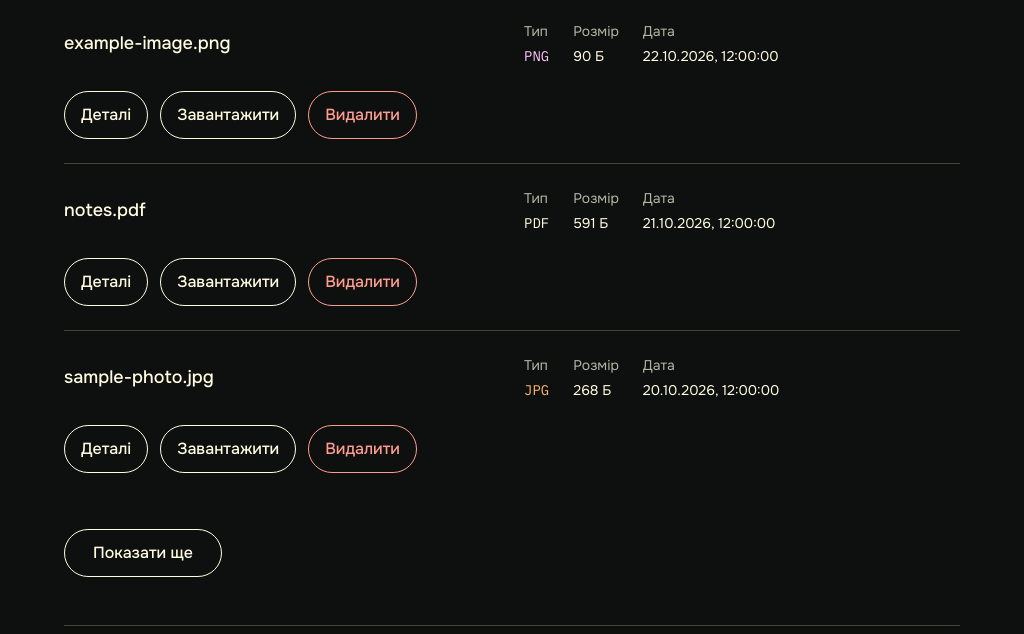
Test: paginates without duplicate IDs and resets the cursor for filtering, ordering and debounced search
(page scrolled)
expect the element "example-image.png" is shown: met, box left=64, top=22, right=779, bottom=139
Click the button "Показати ще" at (143, 553), box left=64, top=529, right=222, bottom=577
(page scrolled)
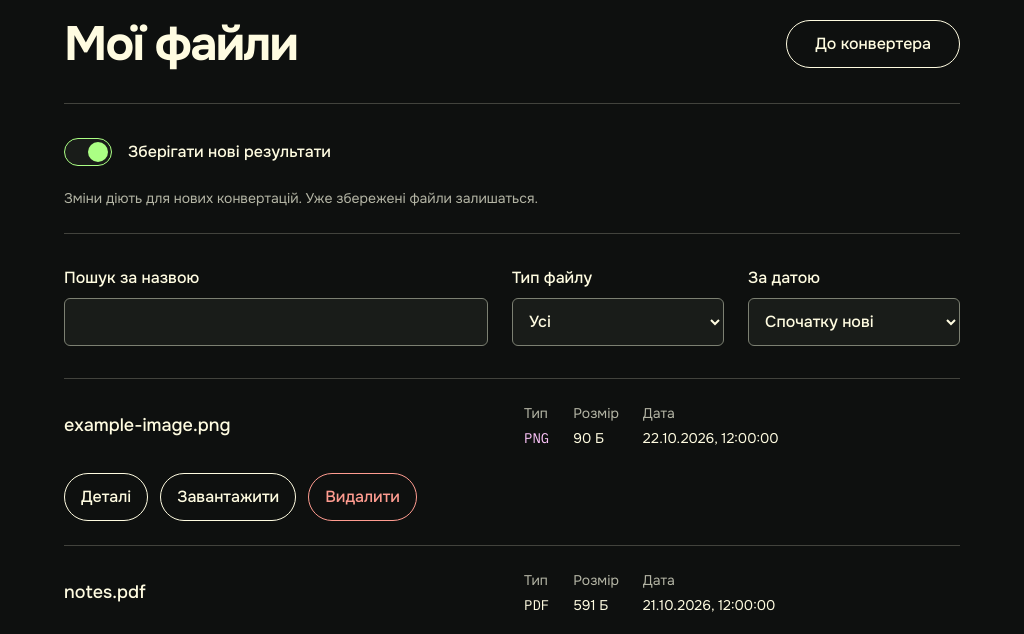
expect the button "Показати ще" is gone: met
Select "PDF" in the dropdown labelled "Тип файлу" at (618, 322), box left=512, top=298, right=724, bottom=346
(page scrolled)
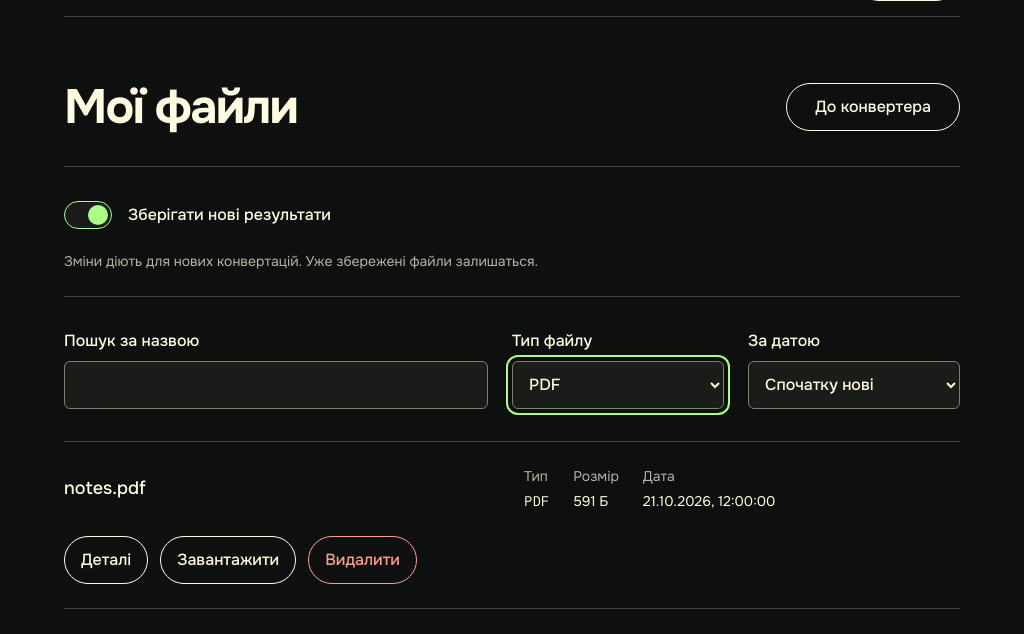
expect the element "notes.pdf" is shown: met, box left=64, top=467, right=775, bottom=584
Select "Спочатку старі" in the dropdown labelled "За датою" at (854, 385), box left=748, top=361, right=960, bottom=409
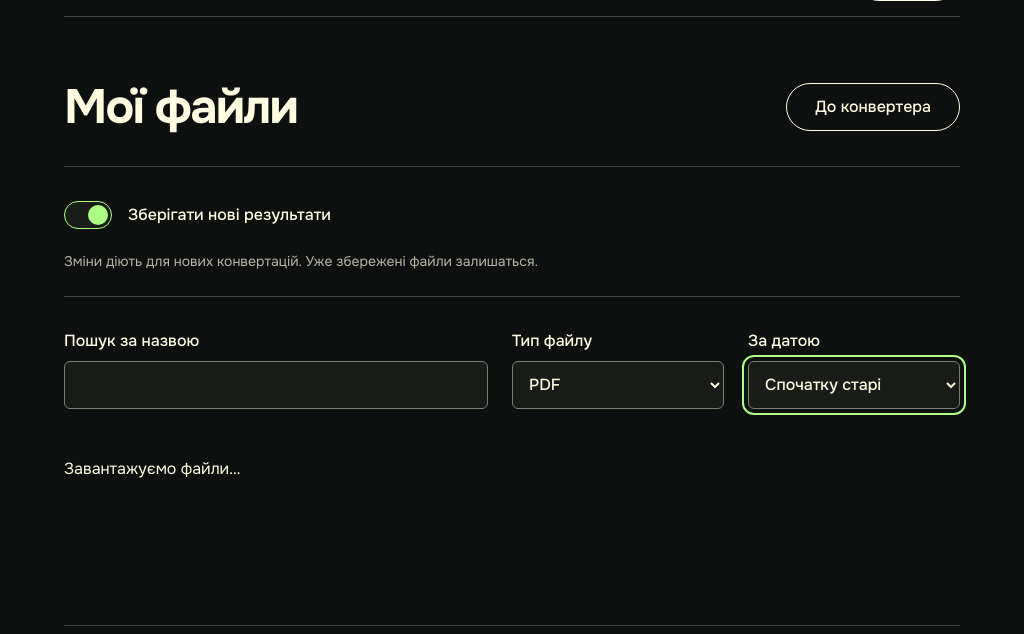
Type " ANOTHER " into the search field labelled "Пошук за назвою" at (276, 385), box left=64, top=361, right=488, bottom=409
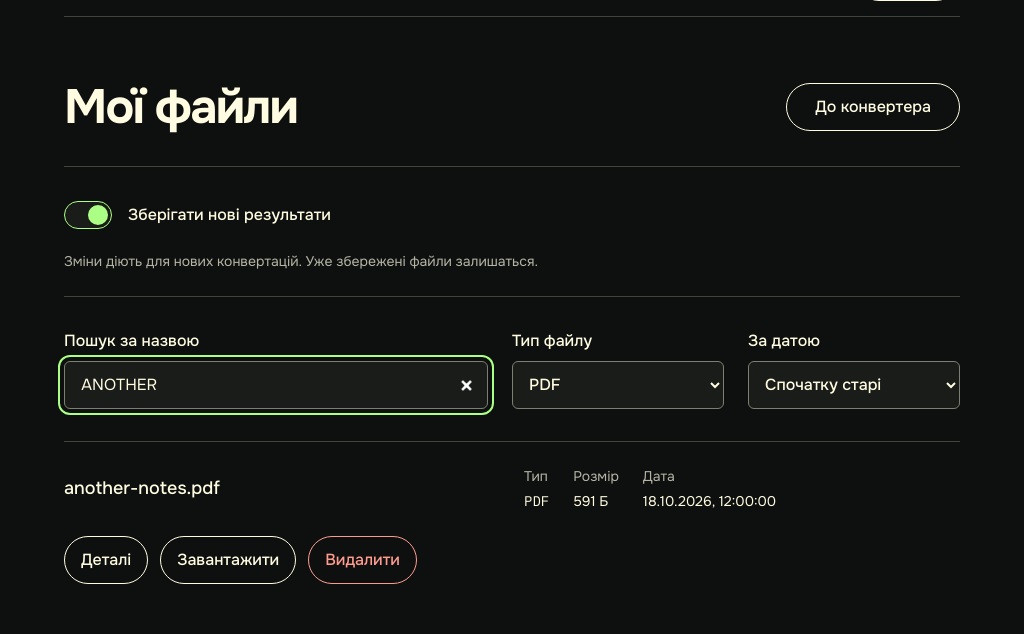
expect the element "another-notes.pdf" is shown: met, box left=64, top=467, right=776, bottom=584
